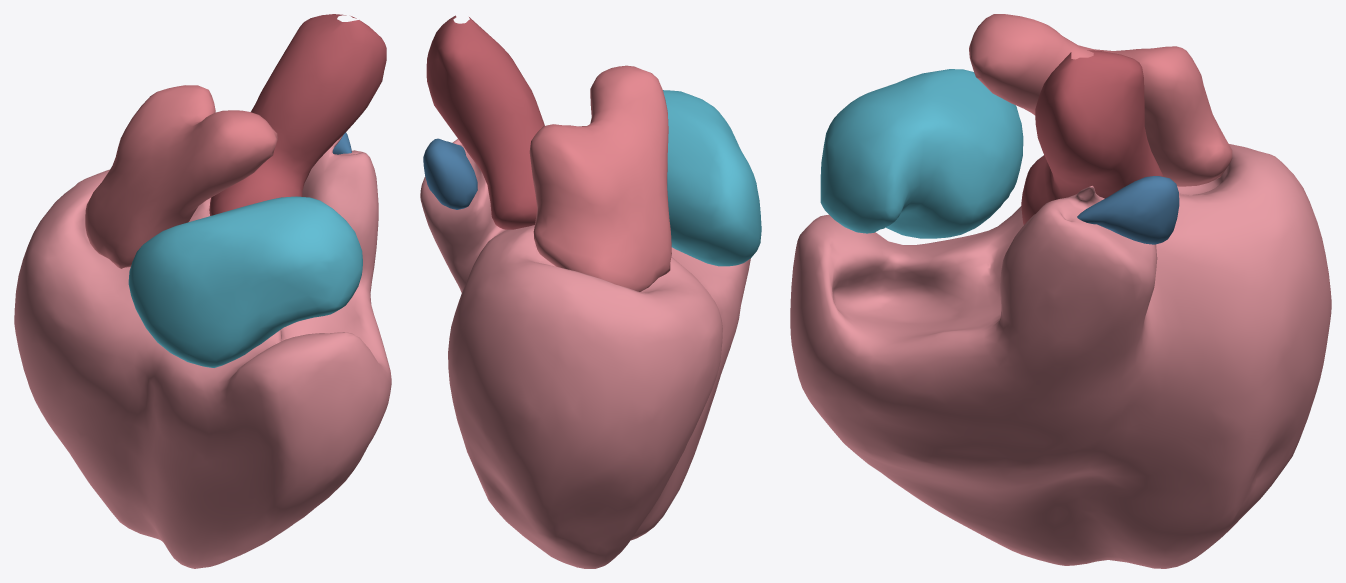
The model's file is frame_26.glb.
3 renders of one model, left to right at view 1: azimuth 30°, elevation 25°; view 2: azimuth 150°, elevation 25°; view 3: azimuth 270°, elevation 25°, orthographic. The views are drawn at different scales.
Visible parts, largest first — view 1: Renderer Node; view 2: Renderer Node; view 3: Renderer Node.
Part boxes in pixels (x1,y1,x2,y2): Renderer Node: (14, 14, 391, 568); Renderer Node: (420, 15, 761, 568); Renderer Node: (790, 14, 1331, 568).
Size of the model in its own units: 106 by 162 by 131.
